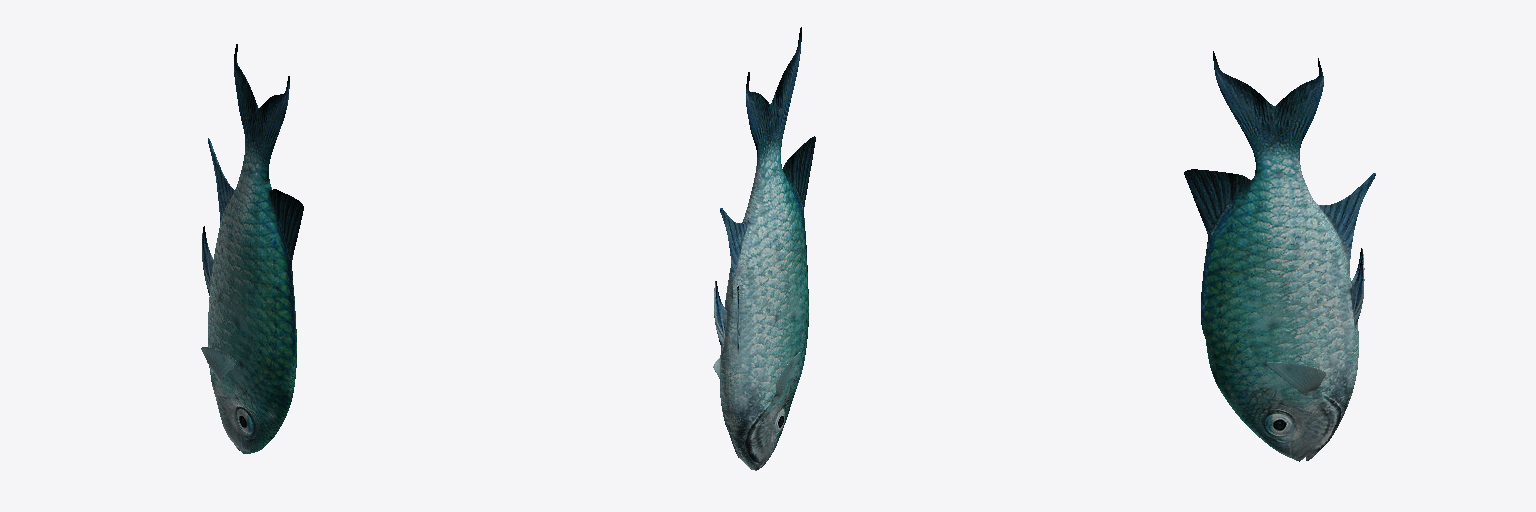
3 renders of one model, left to right at view 1: azimuth 30°, elevation 25°; view 2: azimuth 150°, elevation 25°; view 3: azimuth 270°, elevation 25°, orthographic.
Parts seen in each view (by area): view 1: 13007_Blue_Green_Reef_Chromis_v1; view 2: 13007_Blue_Green_Reef_Chromis_v1; view 3: 13007_Blue_Green_Reef_Chromis_v1.
Part boxes in pixels (bbox=[...]): 13007_Blue_Green_Reef_Chromis_v1: bbox=[201, 44, 303, 453]; 13007_Blue_Green_Reef_Chromis_v1: bbox=[713, 27, 815, 470]; 13007_Blue_Green_Reef_Chromis_v1: bbox=[1184, 51, 1375, 461].
Bounding box in the file's own units: 1.25 × 7.69 × 3.26.
Materials: 1 (1 with a texture image).